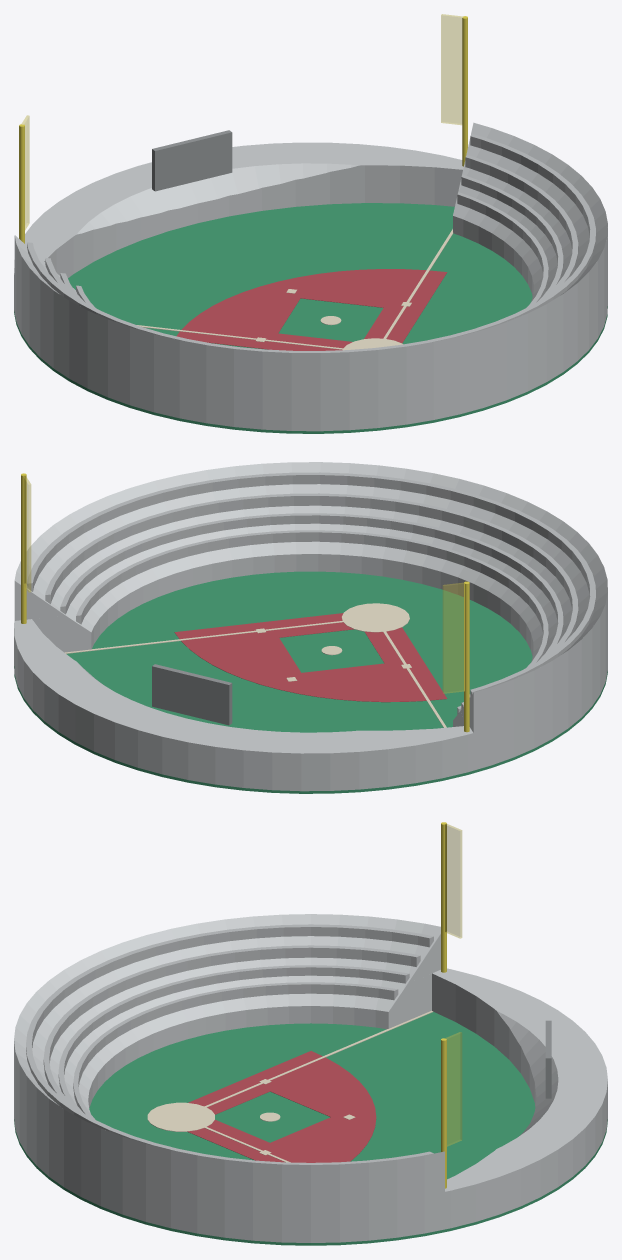
The model's file is estadio.fbx.
3 views of the same model, one above another, from view 1: azimuth 30°, elevation 25°; view 2: azimuth 150°, elevation 25°; view 3: azimuth 270°, elevation 25° (orthographic).
Visible parts, largest first — view 1: estadio1; view 2: estadio1; view 3: estadio1.
Part boxes in pixels (left/top/right/bottom): estadio1: left=14, top=14, right=607, bottom=433; estadio1: left=14, top=462, right=607, bottom=793; estadio1: left=14, top=822, right=607, bottom=1245.
Size of the model in its own units: 24.48 by 8.57 by 24.48.
